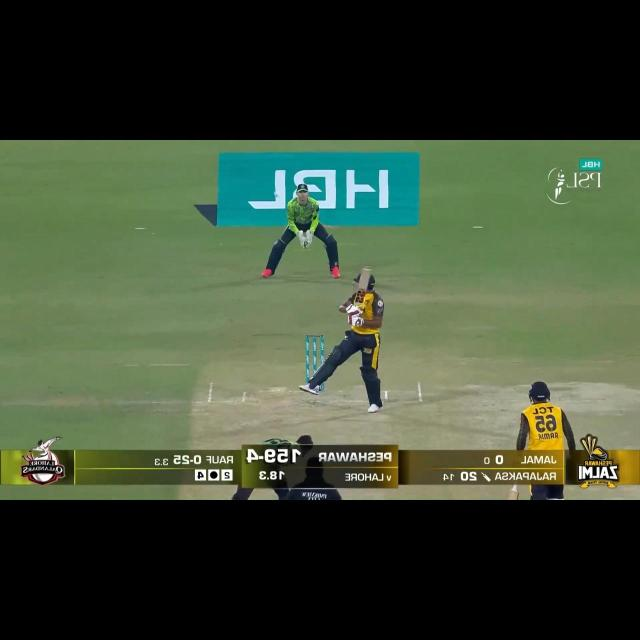bat: (354, 268, 371, 306)
toe: (360, 266, 372, 274)
